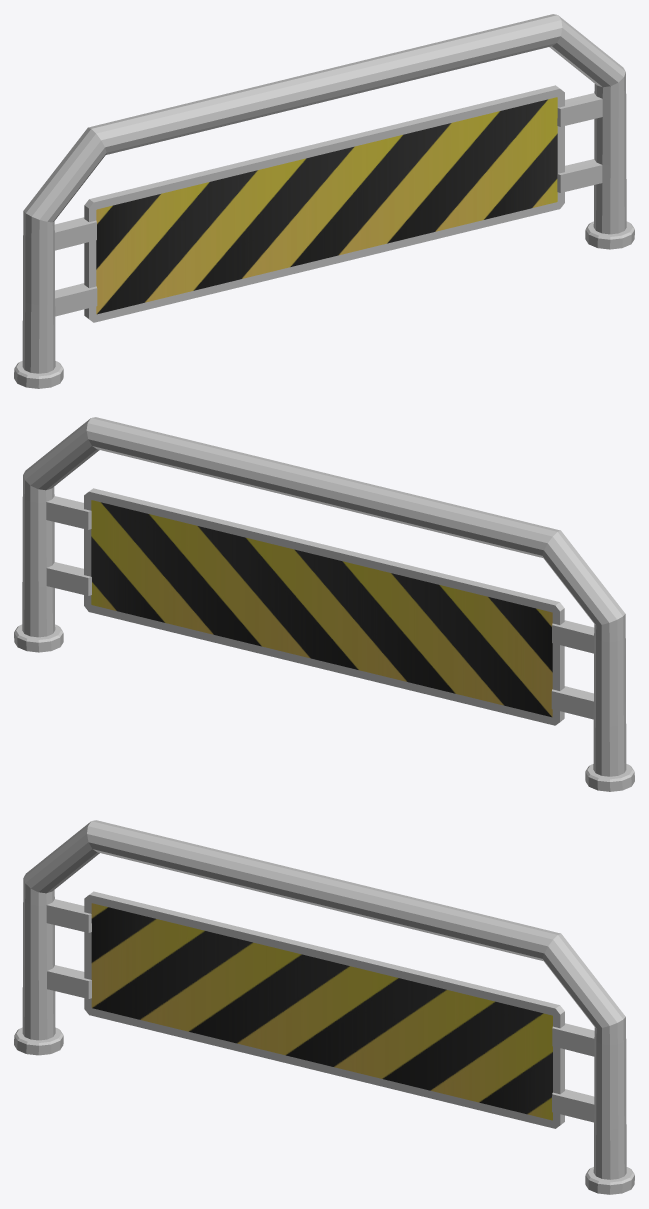
The model's file is WarningFence.fbx.
The picture shows the model from 3 angles, top to bottom: view 1: azimuth 30°, elevation 25°; view 2: azimuth 150°, elevation 25°; view 3: azimuth 330°, elevation 25°; orthographic projection.
Parts seen in each view (by area): view 1: Fence; view 2: Fence; view 3: Fence.
Boxes of the visible parts, box(x1,y1,x2,y2) form: Fence: box(14, 14, 634, 388); Fence: box(14, 417, 634, 791); Fence: box(14, 820, 634, 1194).
Bounding box in the file's own units: 215 × 79.21 × 15.
